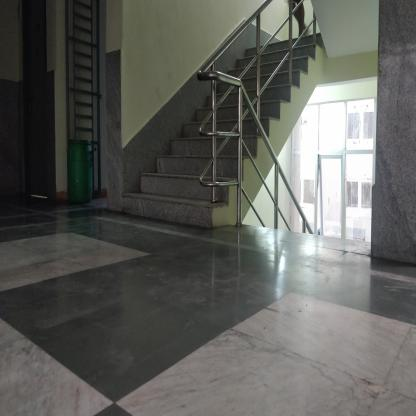stairs: (172, 135, 200, 228)
